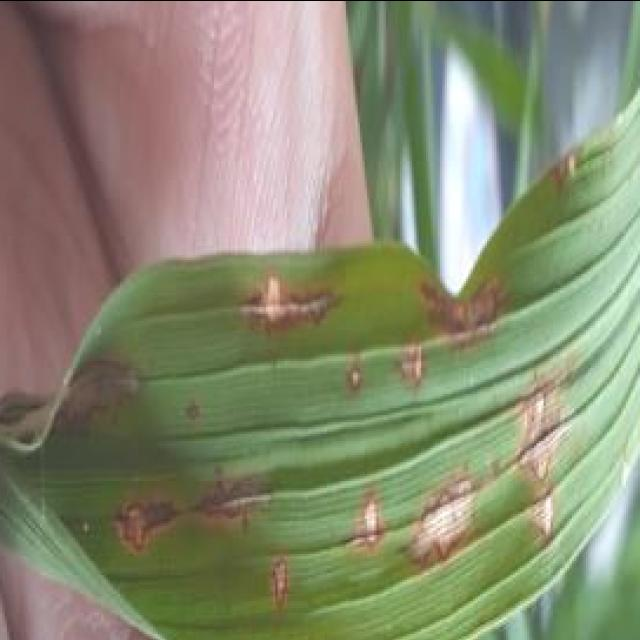Leaf_Blast: (501, 346, 581, 492), (174, 458, 290, 542), (391, 480, 487, 581), (407, 270, 527, 348), (205, 266, 332, 339), (85, 464, 172, 560), (252, 527, 322, 640), (501, 482, 581, 560), (334, 482, 388, 586), (330, 336, 386, 414), (384, 318, 436, 390), (534, 136, 578, 202)
